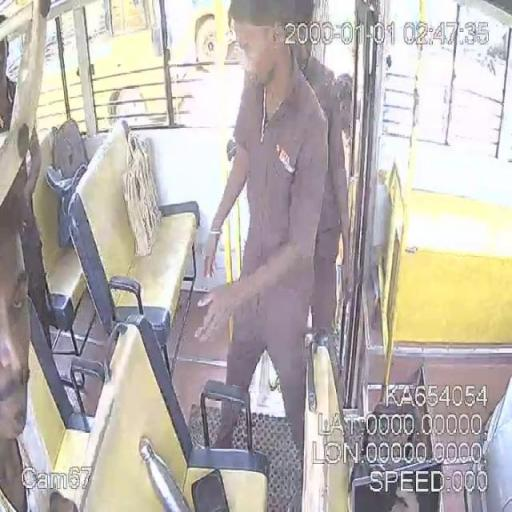persona: (198, 1, 332, 470), (2, 188, 57, 512)
